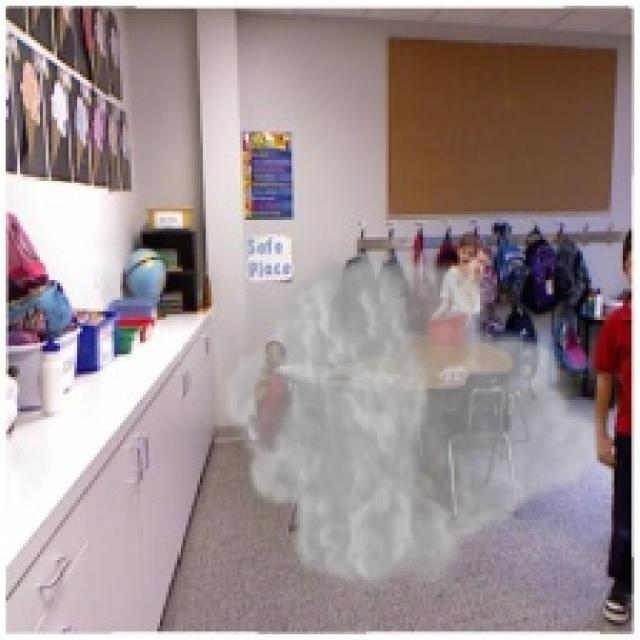smoke: (217, 243, 612, 597)
